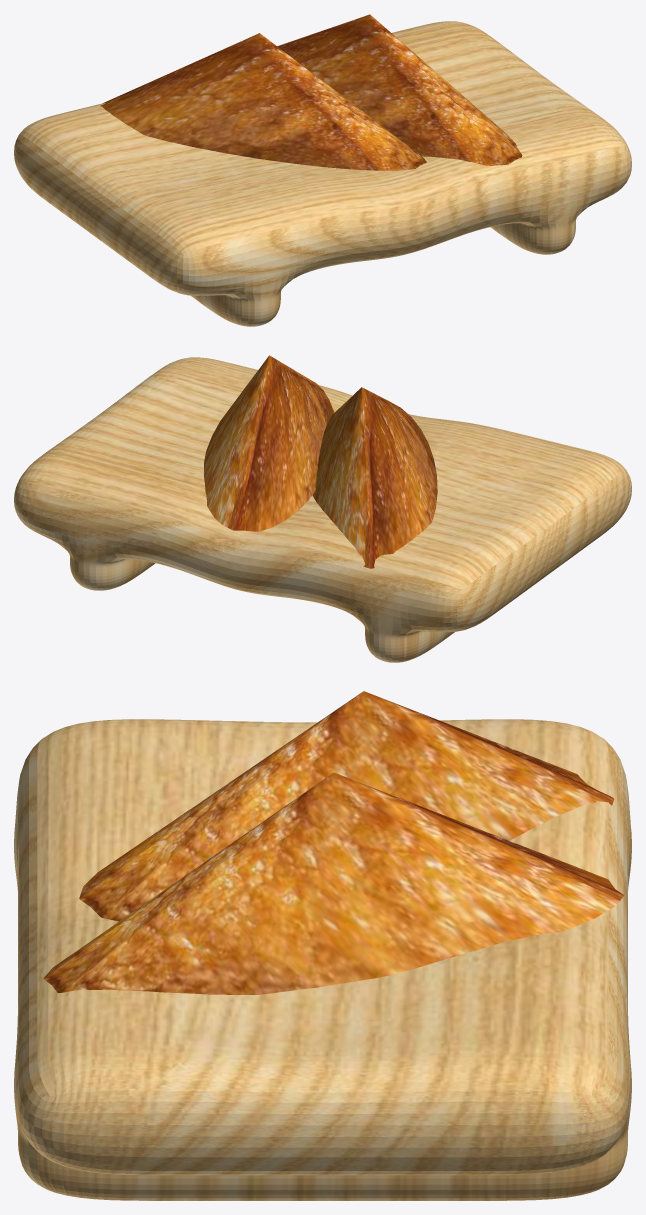
File: FriedTofu_Sushi.fbx
3 views of the same model, one above another, from view 1: azimuth 30°, elevation 25°; view 2: azimuth 150°, elevation 25°; view 3: azimuth 270°, elevation 25° (orthographic). The views are drawn at different scales.
Parts seen in each view (by area): view 1: Cube.001, Cone.002, Cone.004; view 2: Cube.001, Cone.004, Cone.002; view 3: Cube.001, Cone.004, Cone.002.
Part boxes in pixels (<box>): Cube.001: <box>14,21,631,326</box>; Cone.002: <box>100,33,426,170</box>; Cone.004: <box>277,14,522,165</box>; Cube.001: <box>14,357,631,662</box>; Cone.004: <box>204,355,334,531</box>; Cone.002: <box>312,387,437,568</box>; Cube.001: <box>14,719,631,1200</box>; Cone.004: <box>43,772,623,994</box>; Cone.002: <box>79,691,614,921</box>.
Bounding box in the file's own units: 278 × 117 × 191.
2 materials, 2 textured.
